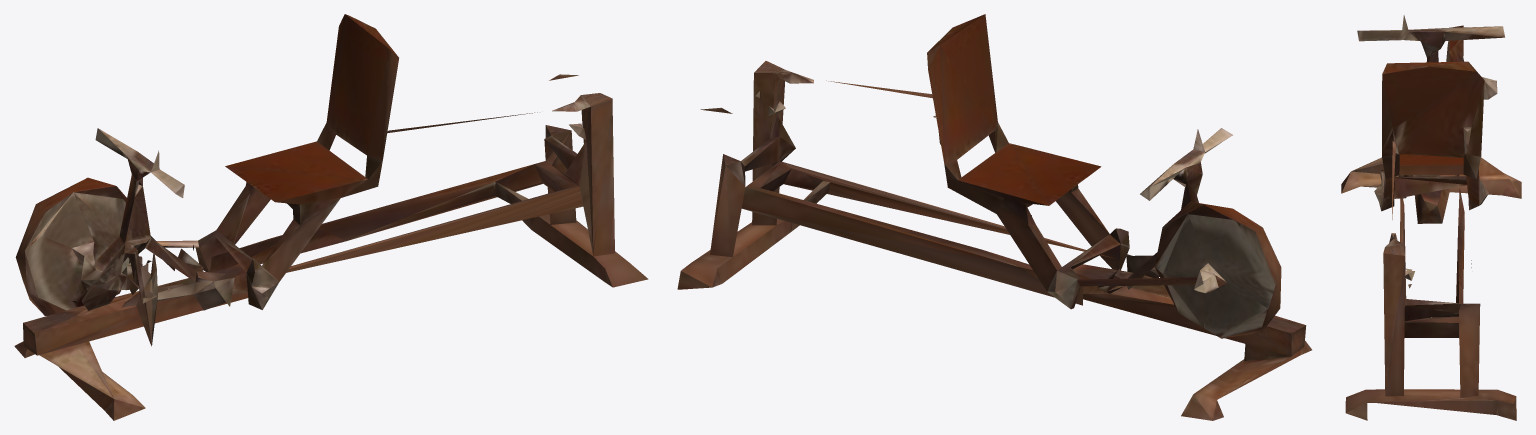
File: mj-gym-rowing-machine.lod1.glb
3 renders of one model, left to right at view 1: azimuth 30°, elevation 25°; view 2: azimuth 150°, elevation 25°; view 3: azimuth 270°, elevation 25°, orthographic. The views are drawn at different scales.
Visible parts, largest first — view 1: mj-gym-rowing-machine; view 2: mj-gym-rowing-machine; view 3: mj-gym-rowing-machine.
Boxes of the visible parts, left/top/right/bottom form: mj-gym-rowing-machine: left=14, top=14, right=648, bottom=420; mj-gym-rowing-machine: left=677, top=14, right=1311, bottom=420; mj-gym-rowing-machine: left=1341, top=15, right=1521, bottom=420.
Bounding box in the file's own units: 1.7 × 0.8019 × 0.5086.
Materials: 1 (1 with a texture image).
